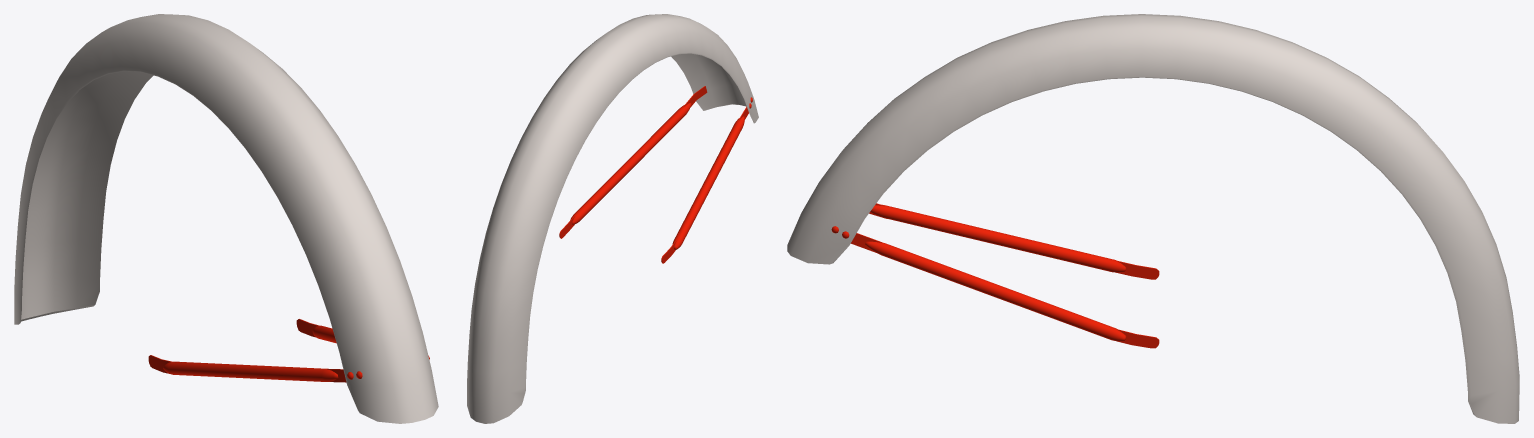
The model's file is WingR.fbx.
3 views of the same model, side by side, from view 1: azimuth 30°, elevation 25°; view 2: azimuth 150°, elevation 25°; view 3: azimuth 270°, elevation 25° (orthographic). The views are drawn at different scales.
Parts seen in each view (by area): view 1: WingR; view 2: WingR; view 3: WingR.
Part boxes in pixels (<box>): WingR: <box>14,14,438,423</box>; WingR: <box>467,14,758,423</box>; WingR: <box>787,14,1519,423</box>.
Bounding box in the file's own units: 170 × 429 × 715.
